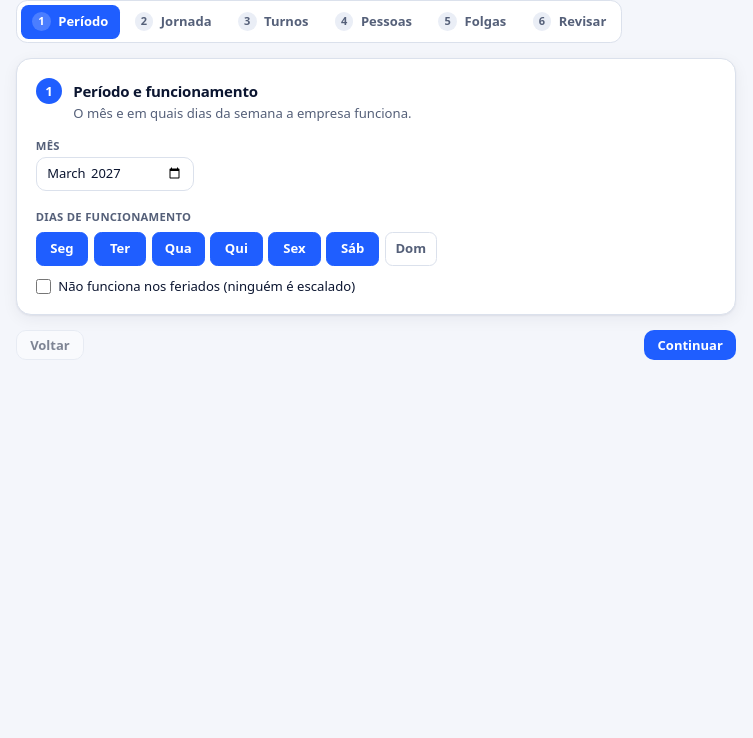
Test: Gerar escala (tela) › mostra os setores com a equipe, os turnos com as horas e sugere a cobertura pela equipe de cada setor
What coordinates should you click on to do the following:
click the button "3 Turnos"
I would click on:
 (273, 22)
Its box is 226,5 -> 320,39.
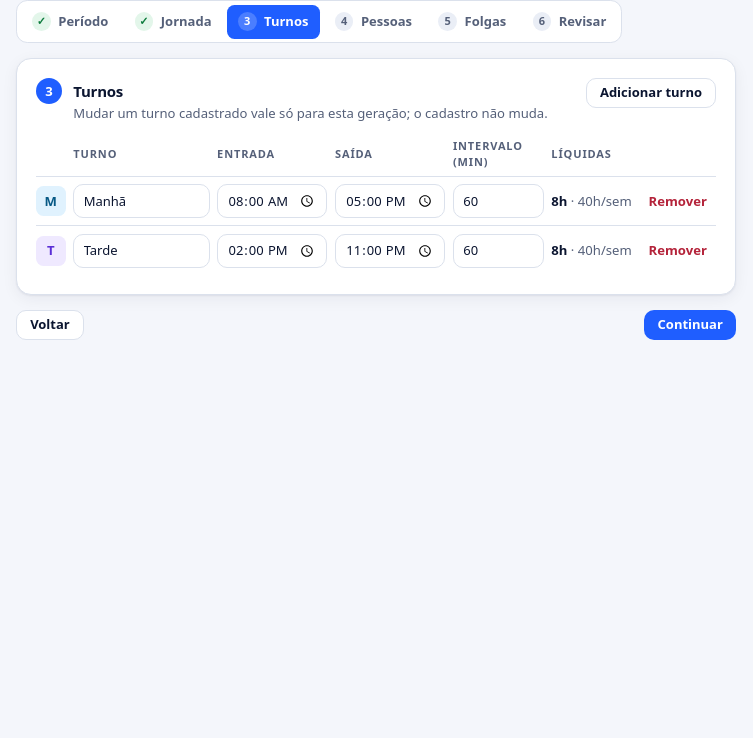
Expected: the text "· 40h/sem" is shown 2 times, 567,192 -> 632,210; 567,241 -> 632,259
What coordinates should you click on to do the following:
click the button "4 Pessoas"
I would click on:
 (373, 22)
Its box is 323,5 -> 423,39.
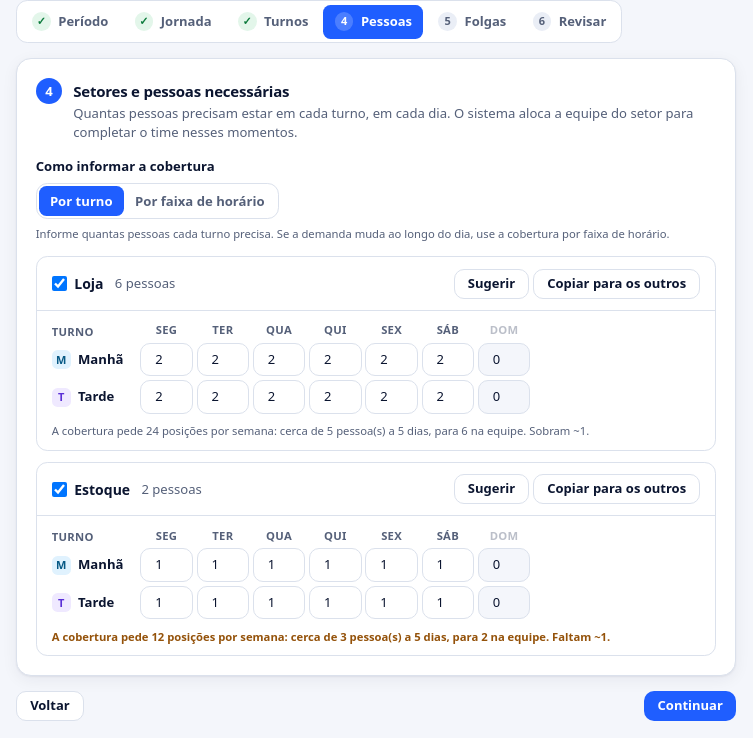
Expected: the text "6 pessoas" is shown, 115,274 -> 175,293
Expected: the text "2 pessoas" is shown, 141,480 -> 202,498
Expected: the number field named "Loja, Manhã: pessoas na Dom" holds "0", 478,343 -> 530,376
